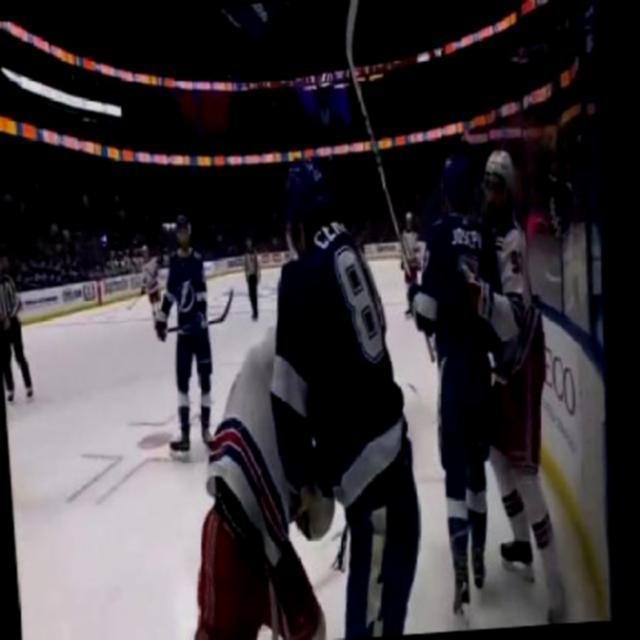fight: (164, 147, 430, 638), (154, 211, 223, 458)
non-fight: (402, 139, 572, 632)
